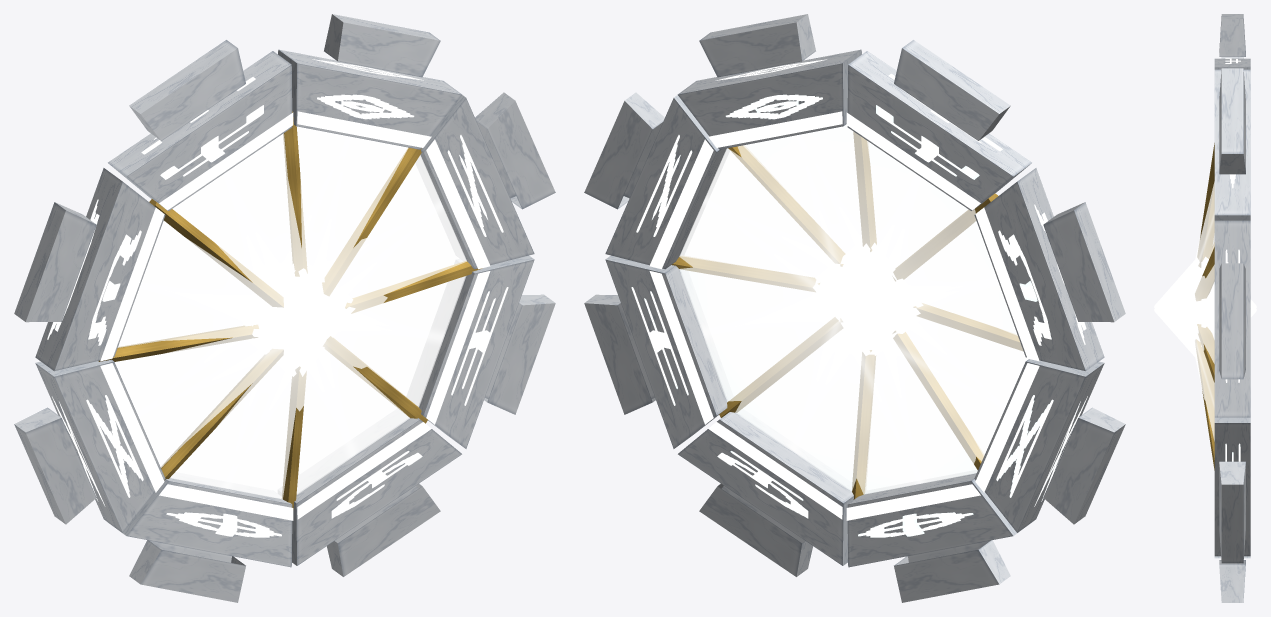
The model's file is crystal_shield.glb.
3 renders of one model, left to right at view 1: azimuth 30°, elevation 25°; view 2: azimuth 150°, elevation 25°; view 3: azimuth 270°, elevation 25°, orthographic. The views are drawn at different scales.
Visible parts, largest first — view 1: shield; view 2: shield; view 3: shield.
Part boxes in pixels (x1,y1,x2,y2): shield: (14,14,555,602); shield: (584,14,1125,602); shield: (1154,14,1256,602).
Bounding box in the file's own units: 1.94 × 1.94 × 0.3419.
Materials: 6 (5 with a texture image).
